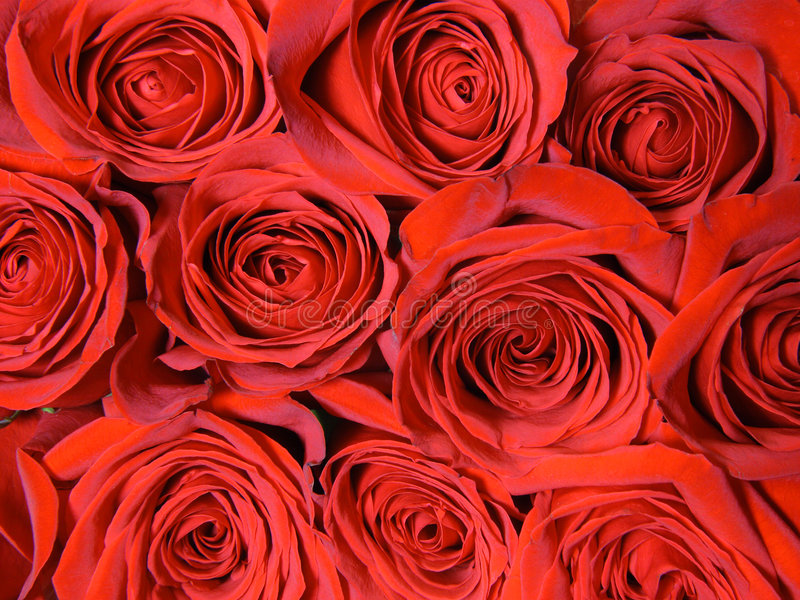RedRose: (369, 163, 662, 461), (32, 389, 330, 600), (147, 140, 391, 393), (269, 0, 574, 186), (2, 2, 287, 189), (562, 0, 800, 214), (490, 449, 800, 600), (644, 193, 800, 474), (0, 148, 152, 415), (315, 428, 513, 600)
